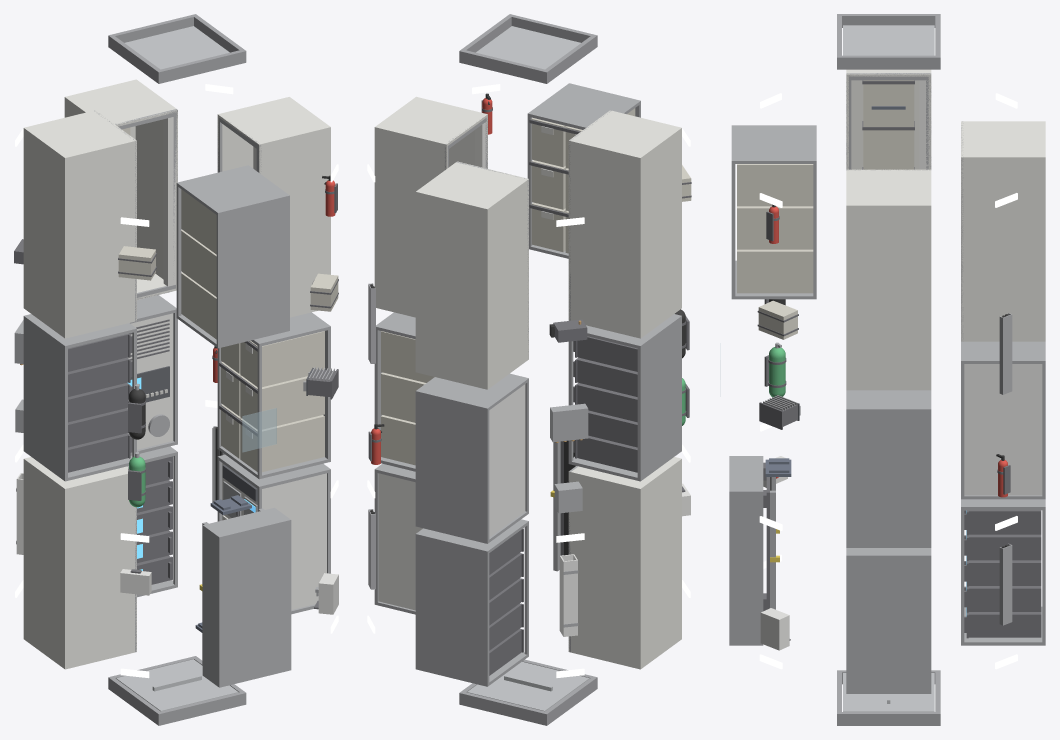
The model's file is station00_hab_module_cutaway.glb.
The picture shows the model from 3 angles, left to right: view 1: azimuth 30°, elevation 25°; view 2: azimuth 150°, elevation 25°; view 3: azimuth 270°, elevation 25°; orthographic projection. The views are drawn at different scales.
Parts seen in each view (by area): view 1: eq23_3_shell, eq24_1_shell, eq26_1_base, eq27_2_rack_frame, eq23_1_shell, eq27_1_stowage_bags, eq05_2_rack_frame, eq05_2, eq23_2_shell, eq25_1_body, eq27_2_stowage_bags, eq05_1 (+23 smaller); view 2: eq23_2_shell, eq23_3_shell, eq24_1_shell, eq28_1_rack_frame, eq23_1_shell, eq05_1_rack_frame, eq05_2_rack_frame, eq05_2, eq25_1_body, eq28_1_body, eq27_1_stowage_bags, eq27_2_stowage_bags (+17 smaller); view 3: eq23_1_shell, eq23_2_shell, eq27_1_rack_frame, eq25_1_rack_frame, eq28_1_body, eq27_2_stowage_bags, eq05_1, eq26_1_base, eq27_2_rack_frame, eq23_3_sleeping_bag, eq28_1_rack_frame, hatch_tunnel_2 (+14 smaller).
Boxes of the visible parts, x1,y1,x2,y2 form: eq23_3_shell: (23, 110, 136, 338); eq24_1_shell: (23, 457, 136, 669); eq26_1_base: (202, 507, 291, 687); eq27_2_rack_frame: (176, 165, 289, 348); eq23_1_shell: (217, 97, 330, 317); eq27_1_stowage_bags: (221, 331, 324, 472); eq05_2_rack_frame: (23, 314, 136, 481); eq05_2: (68, 333, 132, 472); eq23_2_shell: (64, 79, 177, 300); eq25_1_body: (222, 463, 326, 609); eq27_2_stowage_bags: (181, 189, 216, 339); eq05_1: (137, 456, 172, 584); eq23_2_shell: (415, 161, 528, 389); eq23_3_shell: (568, 110, 681, 338); eq24_1_shell: (568, 457, 681, 669); eq28_1_rack_frame: (415, 373, 528, 543); eq23_1_shell: (374, 96, 487, 317); eq05_1_rack_frame: (415, 519, 528, 686); eq05_2_rack_frame: (568, 314, 681, 481); eq05_2: (573, 336, 637, 472); eq25_1_body: (378, 473, 422, 610); eq28_1_body: (489, 384, 525, 537); eq27_1_stowage_bags: (381, 331, 434, 465); eq27_2_stowage_bags: (531, 108, 635, 253); eq23_1_shell: (846, 169, 931, 390); eq23_2_shell: (961, 121, 1045, 341); eq27_1_rack_frame: (846, 390, 931, 547); eq25_1_rack_frame: (846, 548, 931, 693); eq28_1_body: (964, 364, 1042, 495); eq27_2_stowage_bags: (737, 164, 813, 293); eq05_1: (964, 510, 1041, 638); eq26_1_base: (729, 456, 763, 645); eq27_2_rack_frame: (731, 125, 816, 299); eq23_3_sleeping_bag: (863, 80, 914, 169); eq28_1_rack_frame: (961, 341, 1045, 499); hatch_tunnel_2: (837, 14, 940, 69).
Size of the model in its own units: 3.7 by 8.69 by 3.84.
